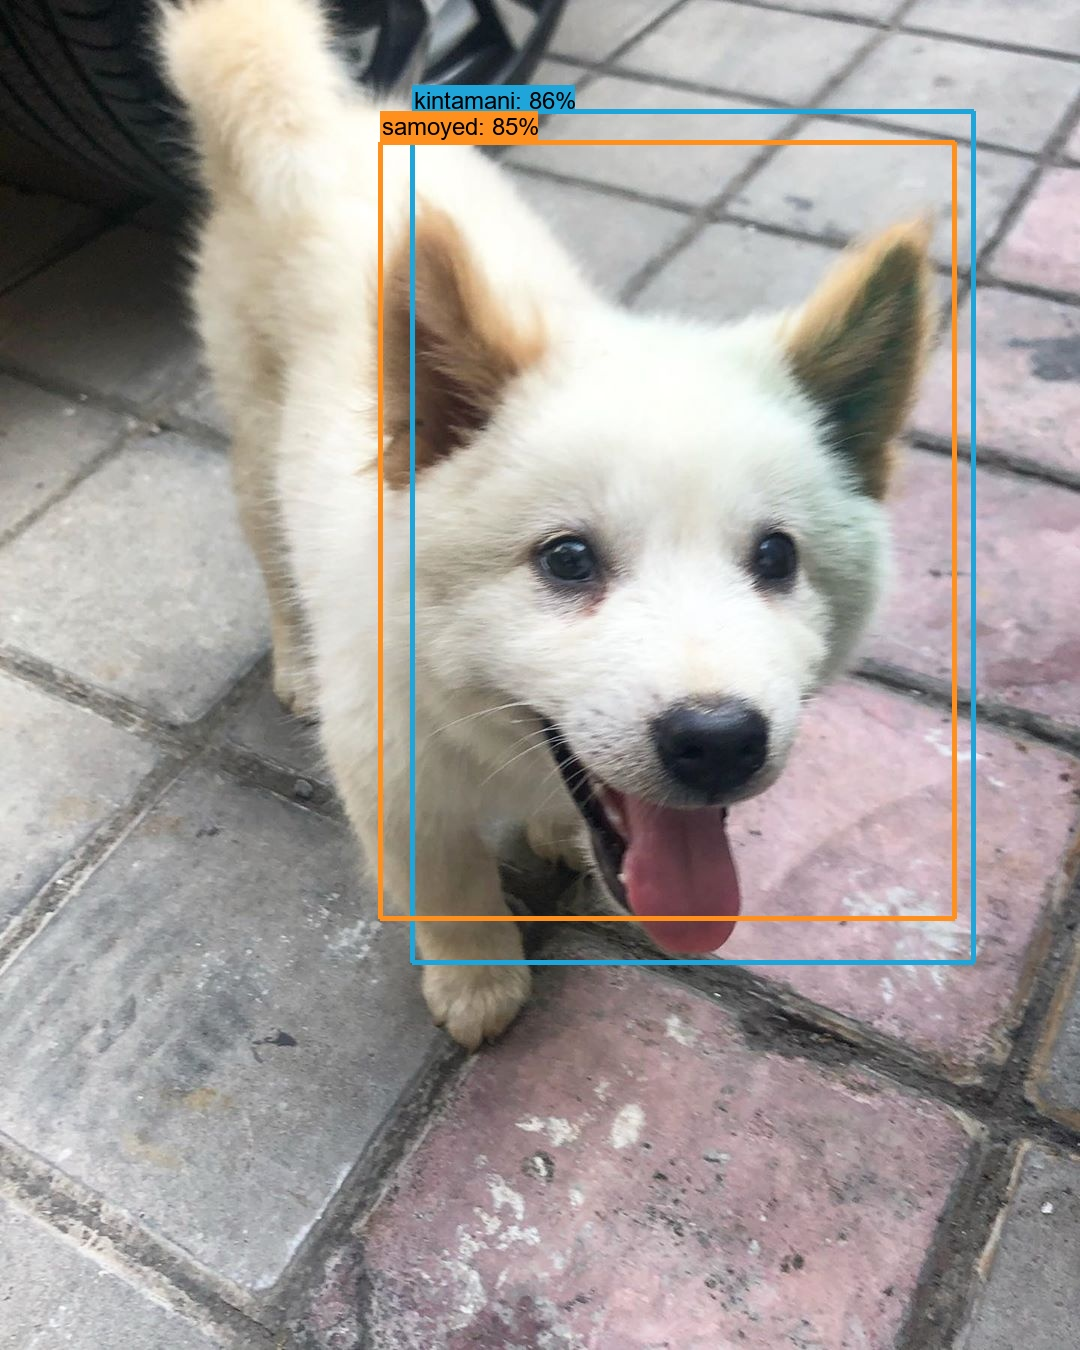kintamani: (336, 192, 968, 983)
